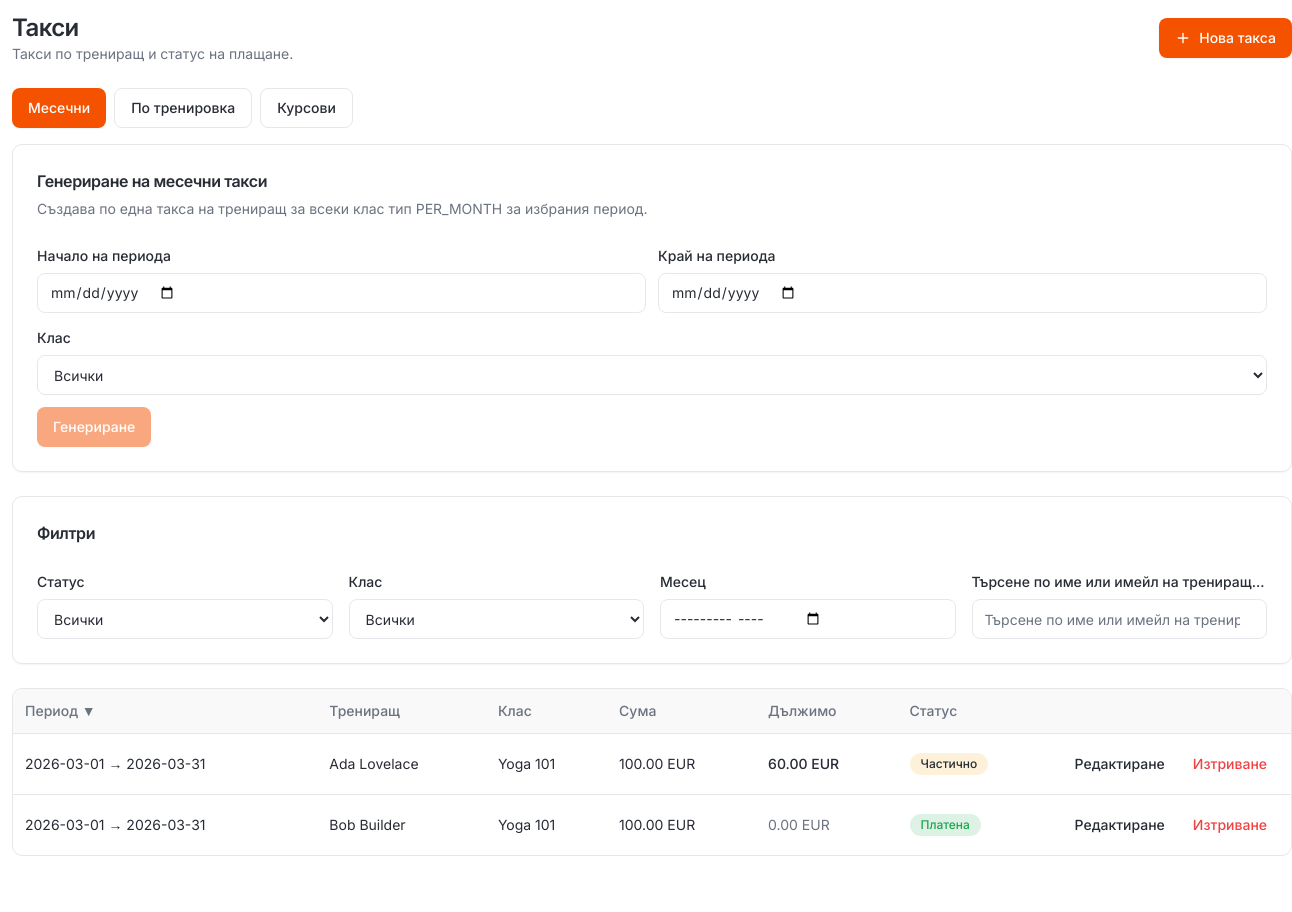
FeesListPage › class + month + outstanding filters › shows enrolled trainees who have no fee at all for the chosen month
Expected: the text "Ada Lovelace" is shown, [317, 734, 486, 794]
Expected: the text "Grace Hopper" is not shown
Select "Yoga 101" in the dropdown with id "classFilter": (496, 619) [348, 599, 644, 639]
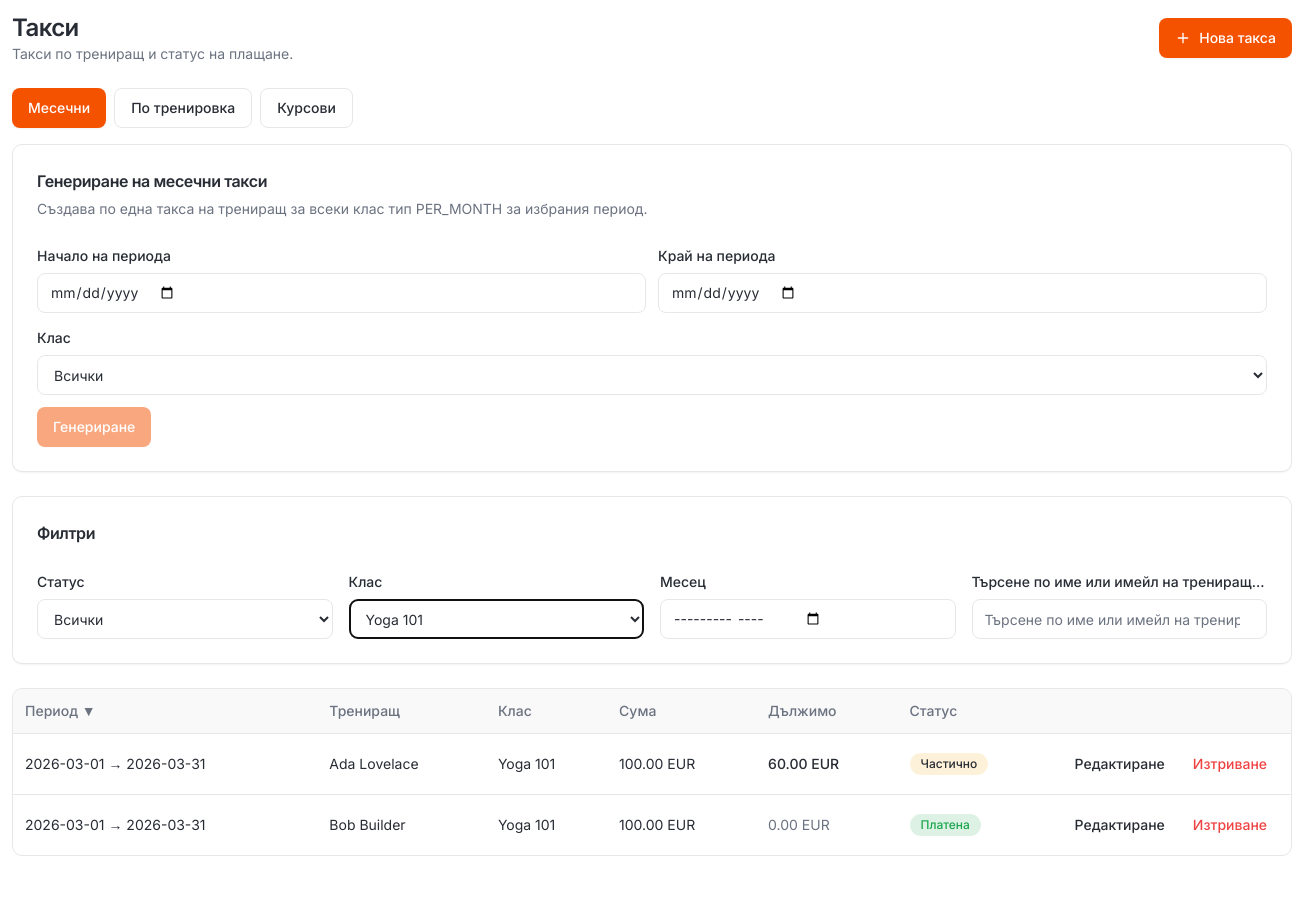
In the field with id "month": (808, 619) [660, 599, 956, 639], type "2026-03"
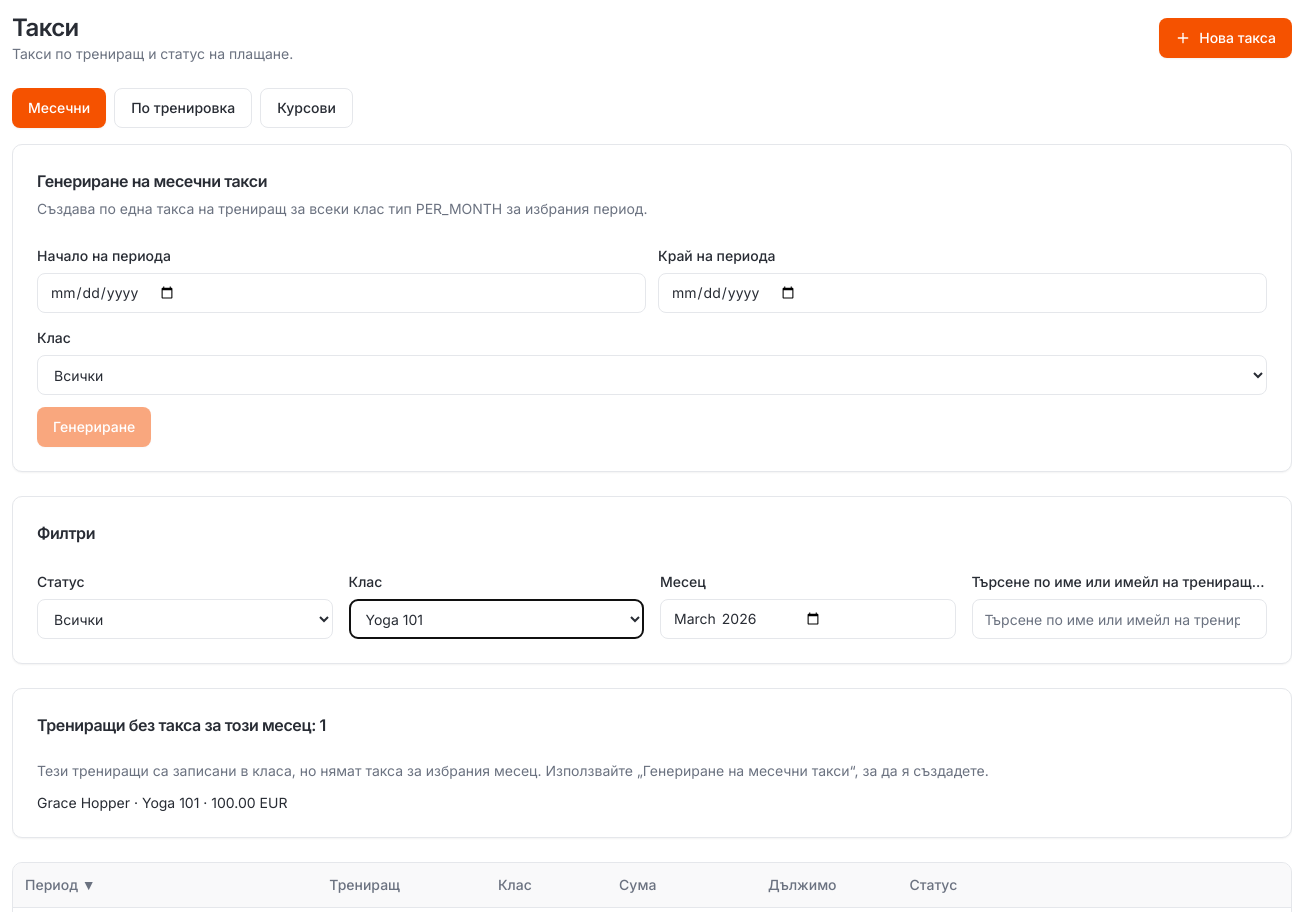
Expected: the list item "Grace Hopper · Yoga 101 · 100.00 EUR" is shown, [37, 794, 287, 811]
